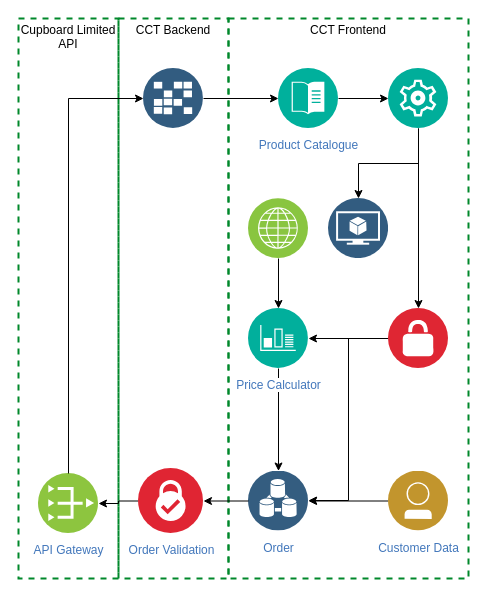
Image size: 486x596. Some labels were removed from this diagram. Each missing label, with the centre of its shape:
"Configurator" goes at point (418, 98).
"Einkaufskorb" goes at point (418, 338).
"l10n" goes at point (278, 228).
"Smart Caching" goes at point (173, 98).
"Visualization" goes at point (358, 228).
